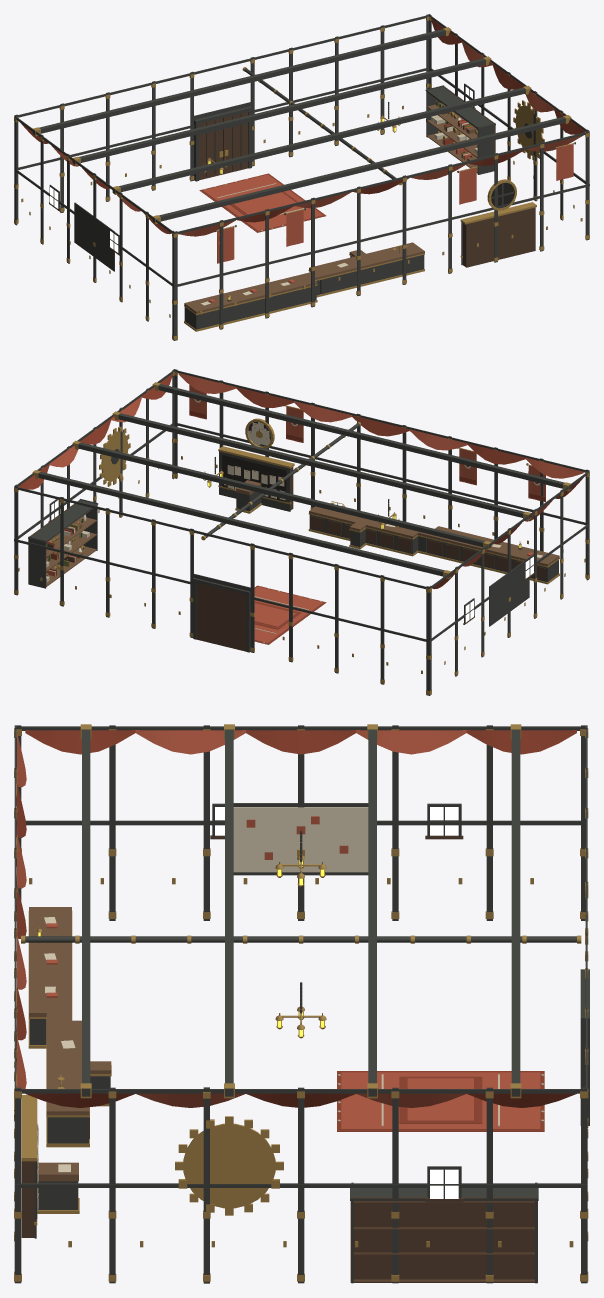
Rendered from guild_set.glb.
3 views of the same model, one above another, from view 1: azimuth 30°, elevation 25°; view 2: azimuth 150°, elevation 25°; view 3: azimuth 270°, elevation 25° (orthographic). The views are drawn at different scales.
Visible parts, largest first — view 1: guild_set; view 2: guild_set; view 3: guild_set.
Boxes of the visible parts, <box> form: guild_set: <box>14,14,589,340</box>; guild_set: <box>14,369,589,695</box>; guild_set: <box>14,724,589,1283</box>.
Bounding box in the file's own units: 24.09 × 6.02 × 16.08.
